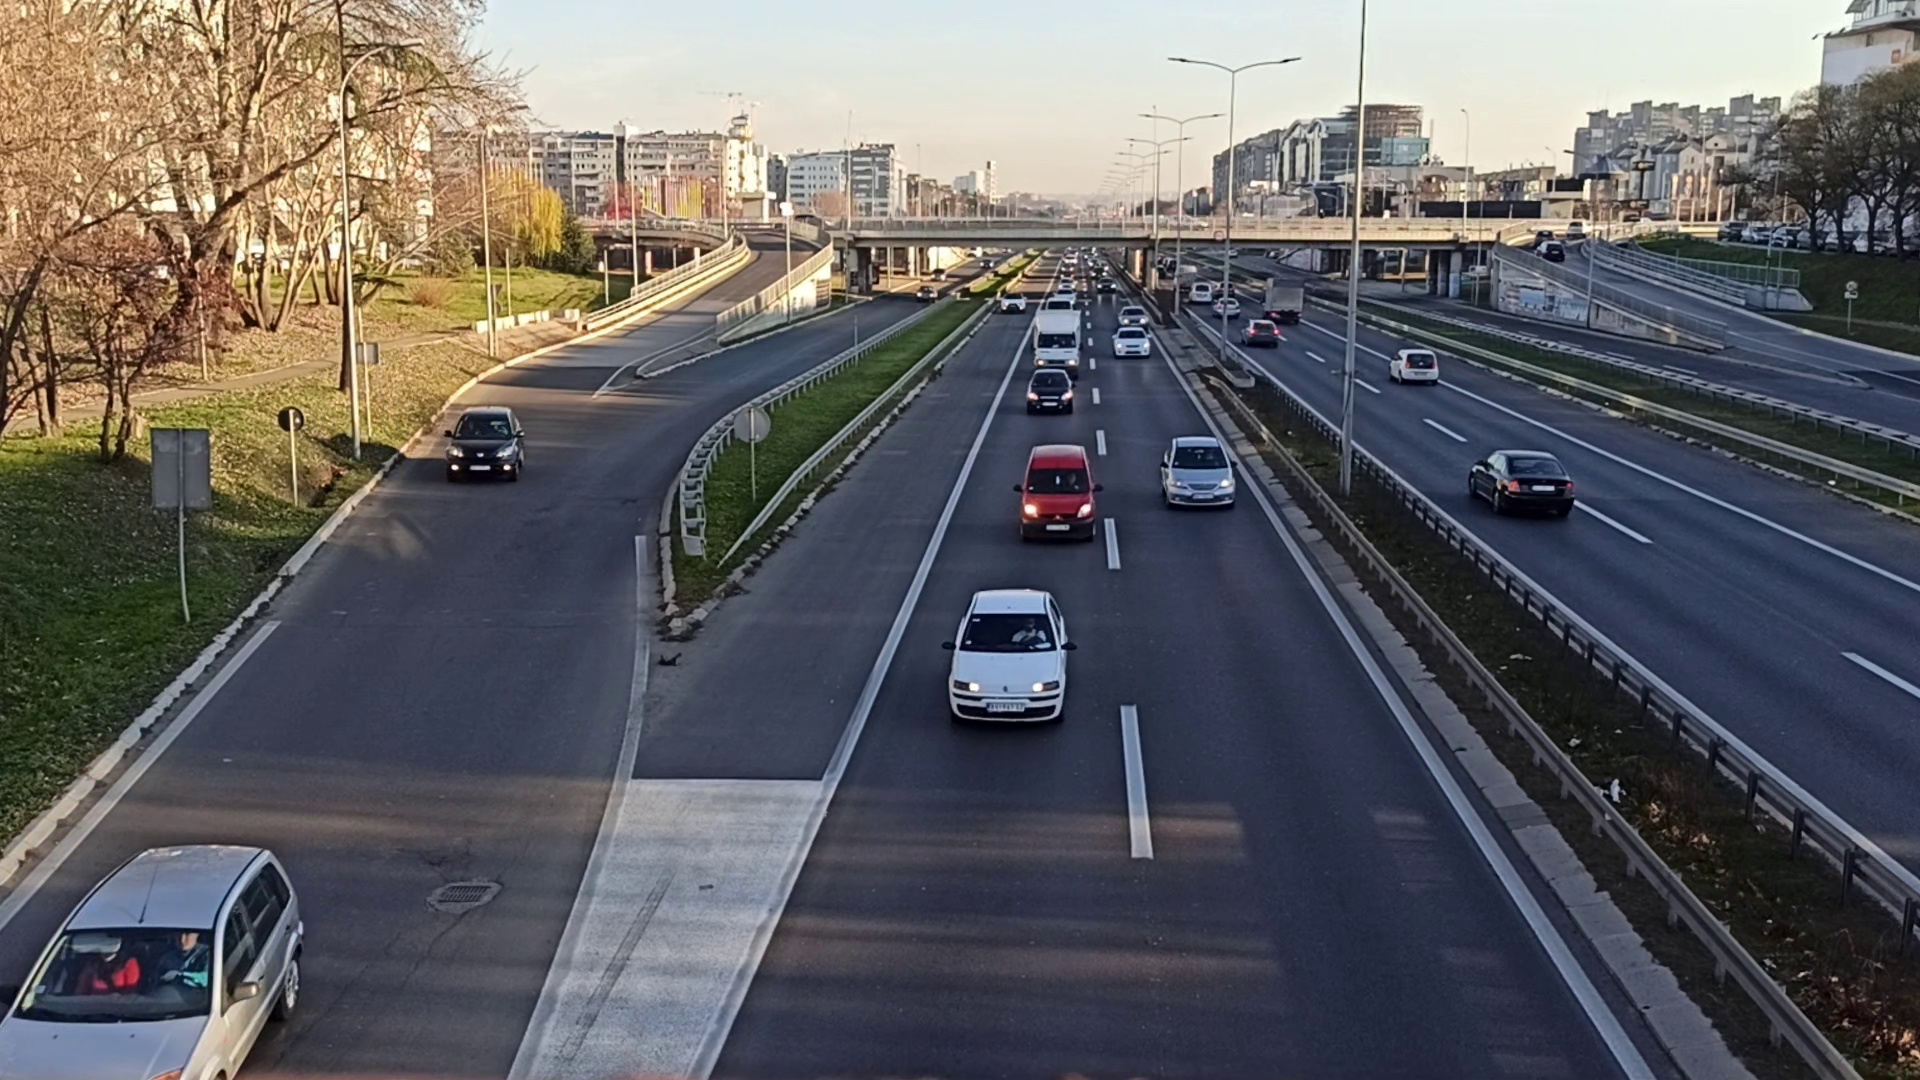car: (944, 585, 1069, 724), (1017, 443, 1096, 542), (1466, 448, 1576, 517), (1159, 434, 1238, 513), (448, 405, 525, 481), (1026, 371, 1073, 410), (1390, 349, 1440, 384), (1112, 327, 1149, 357), (1244, 320, 1278, 345), (1117, 305, 1149, 327), (1215, 297, 1240, 316)
truck: (1263, 278, 1304, 324)
van: (1033, 310, 1080, 375)
